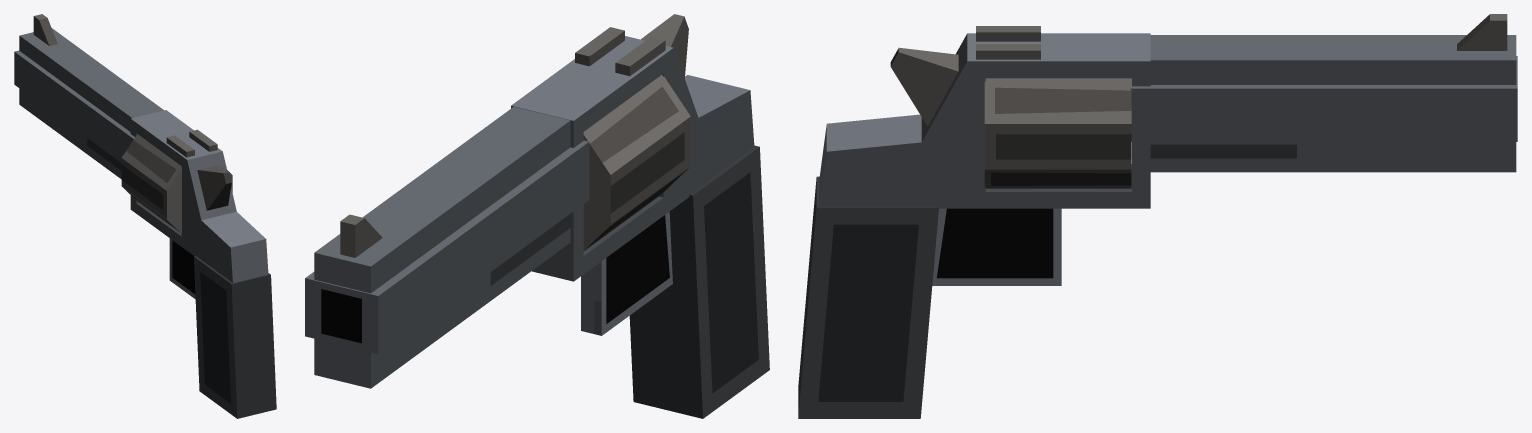
File: Wep_Revolver.fbx
The picture shows the model from 3 angles, left to right: view 1: azimuth 30°, elevation 25°; view 2: azimuth 150°, elevation 25°; view 3: azimuth 270°, elevation 25°; orthographic projection. The views are drawn at different scales.
Parts seen in each view (by area): view 1: Wep_Revolver; view 2: Wep_Revolver; view 3: Wep_Revolver.
Part boxes in pixels (box(x1,y1,x2,y2)): Wep_Revolver: box(14, 14, 276, 418); Wep_Revolver: box(305, 14, 769, 418); Wep_Revolver: box(798, 14, 1517, 418).
Bounding box in the file's own units: 20 × 69.57 × 117.
